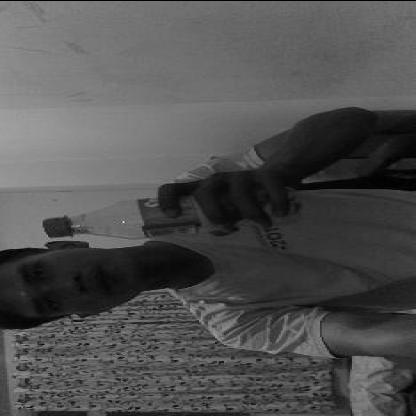plastic_bottles: (48, 179, 297, 240)
